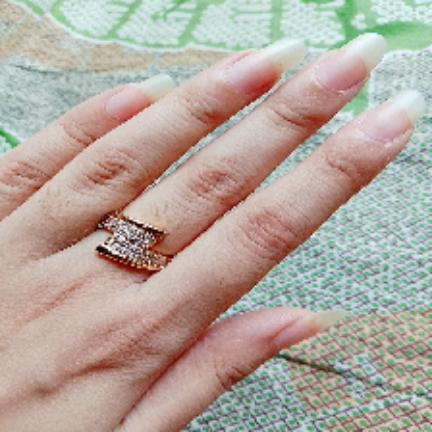Nail: (225, 38, 309, 95), (315, 33, 387, 91), (362, 91, 426, 143), (105, 75, 175, 122), (274, 310, 347, 349)
